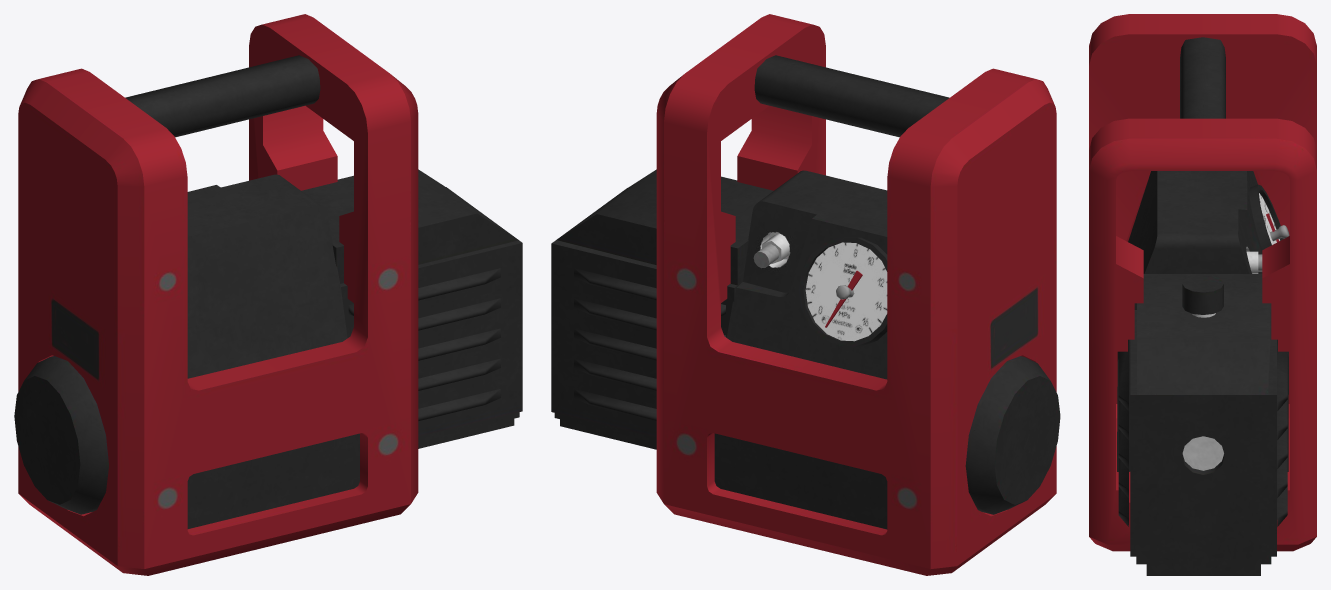
The model's file is Tool_Vacuum_pump.glb.
The picture shows the model from 3 angles, left to right: view 1: azimuth 30°, elevation 25°; view 2: azimuth 150°, elevation 25°; view 3: azimuth 270°, elevation 25°; orthographic projection. The views are drawn at different scales.
Visible parts, largest first — view 1: Tool_Vacuum_pump; view 2: Tool_Vacuum_pump; view 3: Tool_Vacuum_pump.
Boxes of the visible parts, x1,y1,x2,y2 form: Tool_Vacuum_pump: (14, 14, 522, 575); Tool_Vacuum_pump: (551, 14, 1060, 575); Tool_Vacuum_pump: (1089, 14, 1316, 575).
Size of the model in its own units: 0.3638 by 0.3386 by 0.1712.
1 material, 1 textured.
